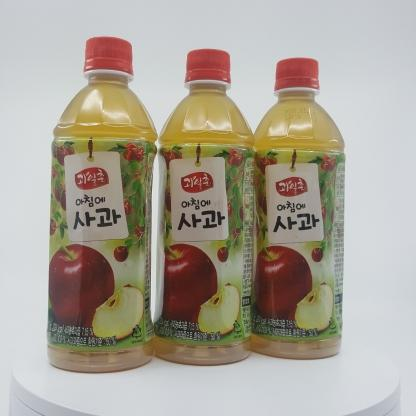--------500ML: (47, 36, 158, 373), (153, 48, 255, 366), (250, 57, 346, 359)
